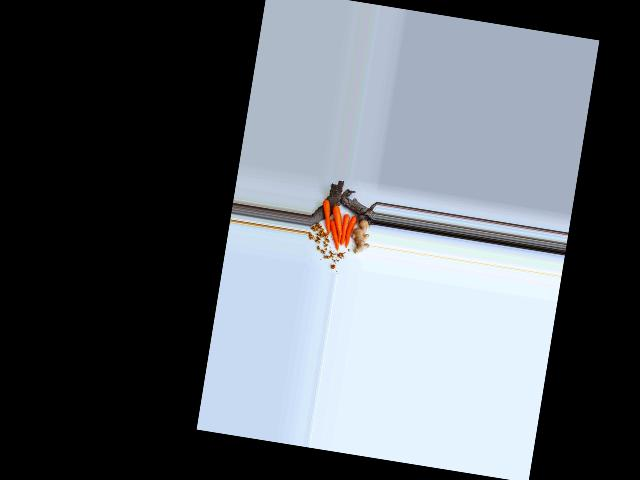carrot: (342, 213, 361, 247)
